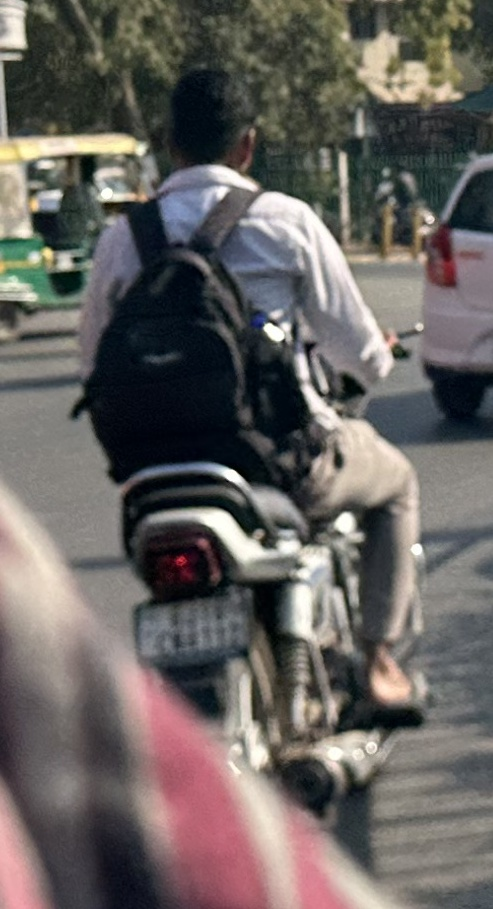BikeWithRider: (56, 53, 445, 894)
NoHelmet: (148, 55, 273, 186)
